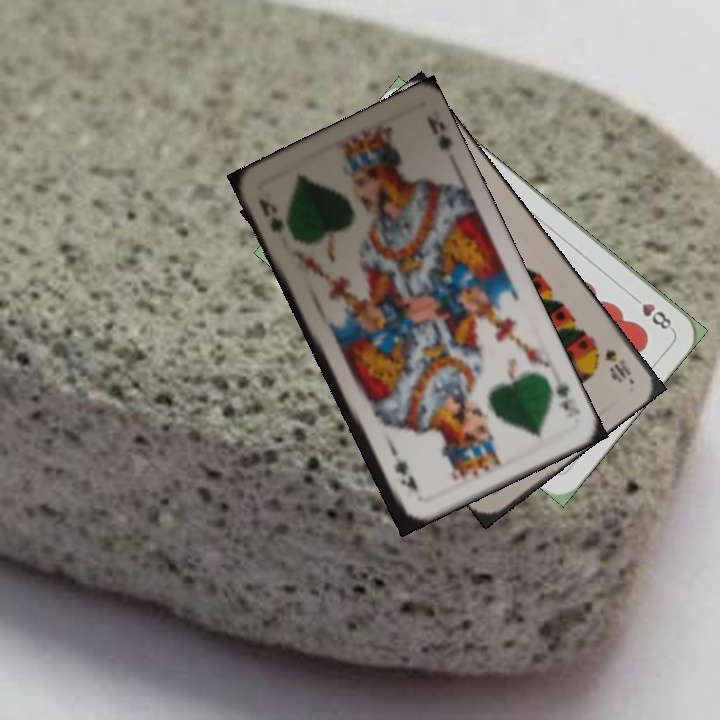GK: (552, 377, 583, 421), (255, 194, 286, 238)
H8: (626, 290, 676, 333)
S10: (600, 344, 634, 385)
